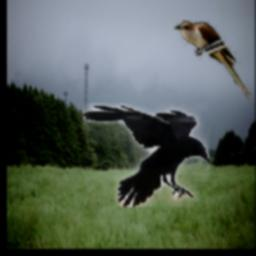Crow: (83, 103, 210, 207)
Cuckoo: (174, 21, 251, 100)
